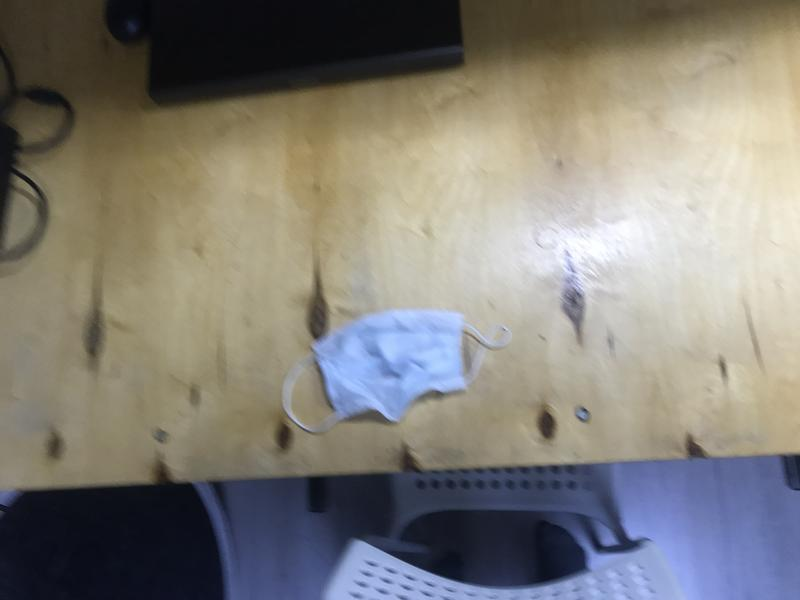medical_mask: (282, 312, 512, 434)
